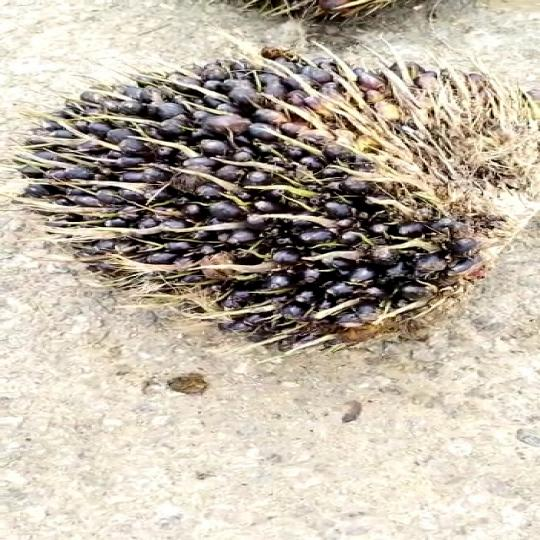mentah: (7, 43, 540, 352)
